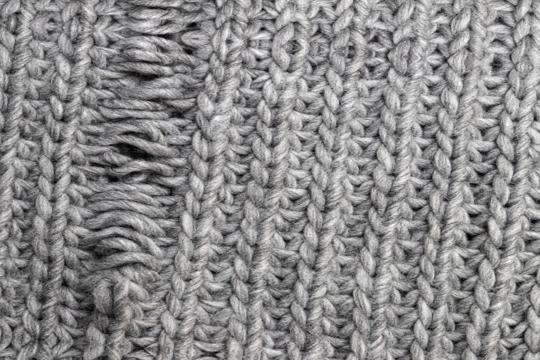slub: (87, 2, 214, 289)
